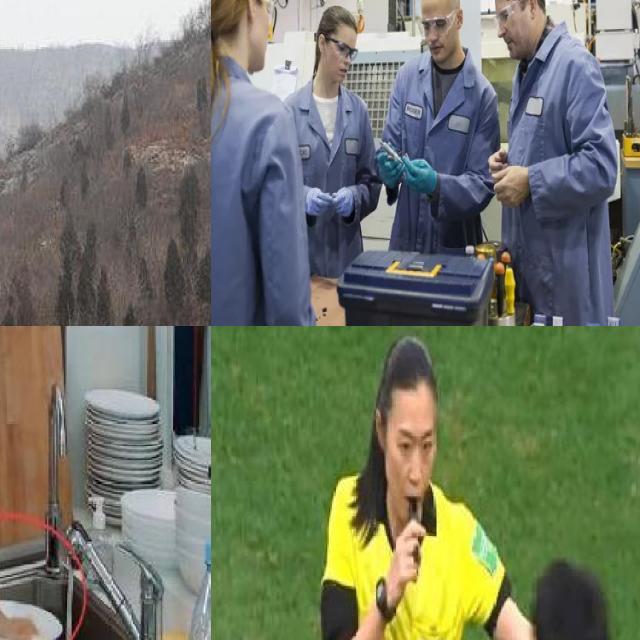No_Ear-Protection: (528, 0, 537, 19), (318, 34, 326, 54), (248, 0, 255, 21), (457, 9, 464, 29)
No_Glasses: (394, 426, 439, 460)
face_nomask: (387, 406, 443, 513), (497, 0, 536, 61), (426, 20, 461, 61), (324, 42, 350, 87)
glasses: (418, 10, 457, 38), (325, 34, 357, 63), (497, 0, 524, 26), (260, 0, 275, 25)
hand_glove: (402, 154, 437, 195), (377, 153, 405, 189), (305, 188, 334, 215), (332, 186, 354, 217)
hand_noglove: (384, 518, 426, 595), (488, 149, 530, 208), (0, 606, 39, 640)
head_nohelmet: (527, 567, 613, 640), (372, 337, 440, 404), (314, 4, 357, 75), (211, 0, 246, 41)
person: (315, 326, 501, 640), (0, 326, 73, 640), (505, 550, 640, 640)
